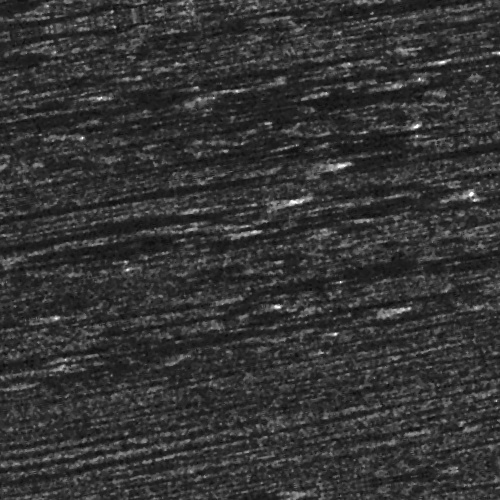object: (350, 68, 500, 81), (268, 172, 425, 183), (229, 199, 312, 210), (0, 277, 84, 286), (175, 227, 258, 236), (170, 217, 263, 224), (0, 328, 52, 339), (223, 303, 286, 312), (337, 326, 410, 333), (190, 290, 243, 295), (272, 147, 313, 152), (233, 492, 264, 495)
shadow: (0, 172, 346, 183), (0, 199, 271, 210), (216, 68, 433, 81), (5, 326, 373, 333), (0, 227, 216, 236), (383, 20, 500, 33), (0, 217, 216, 224), (104, 303, 254, 312), (233, 292, 500, 297), (257, 285, 500, 290), (397, 181, 500, 192), (60, 290, 216, 295), (142, 147, 292, 152), (96, 492, 248, 495), (0, 277, 38, 286)
